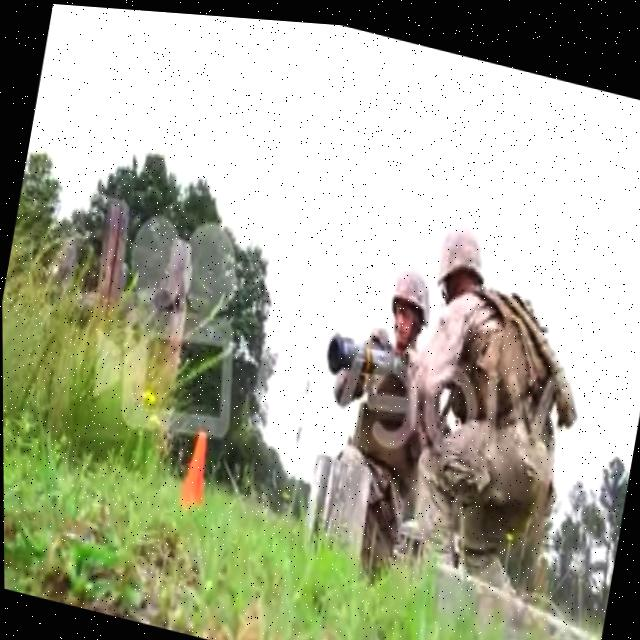rocket: (321, 314, 414, 387)
